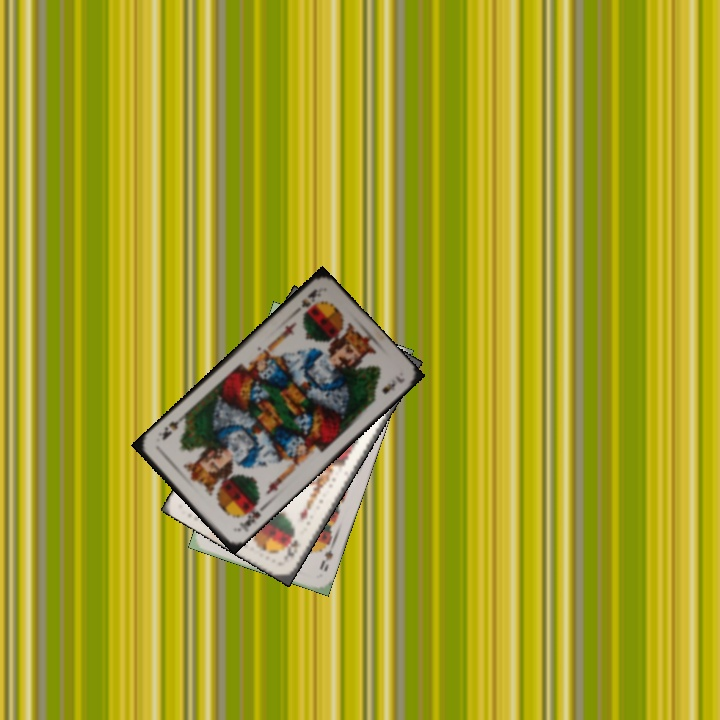S9: (315, 537, 338, 574)
SK: (231, 498, 264, 534), (297, 285, 324, 310), (280, 536, 302, 562)
